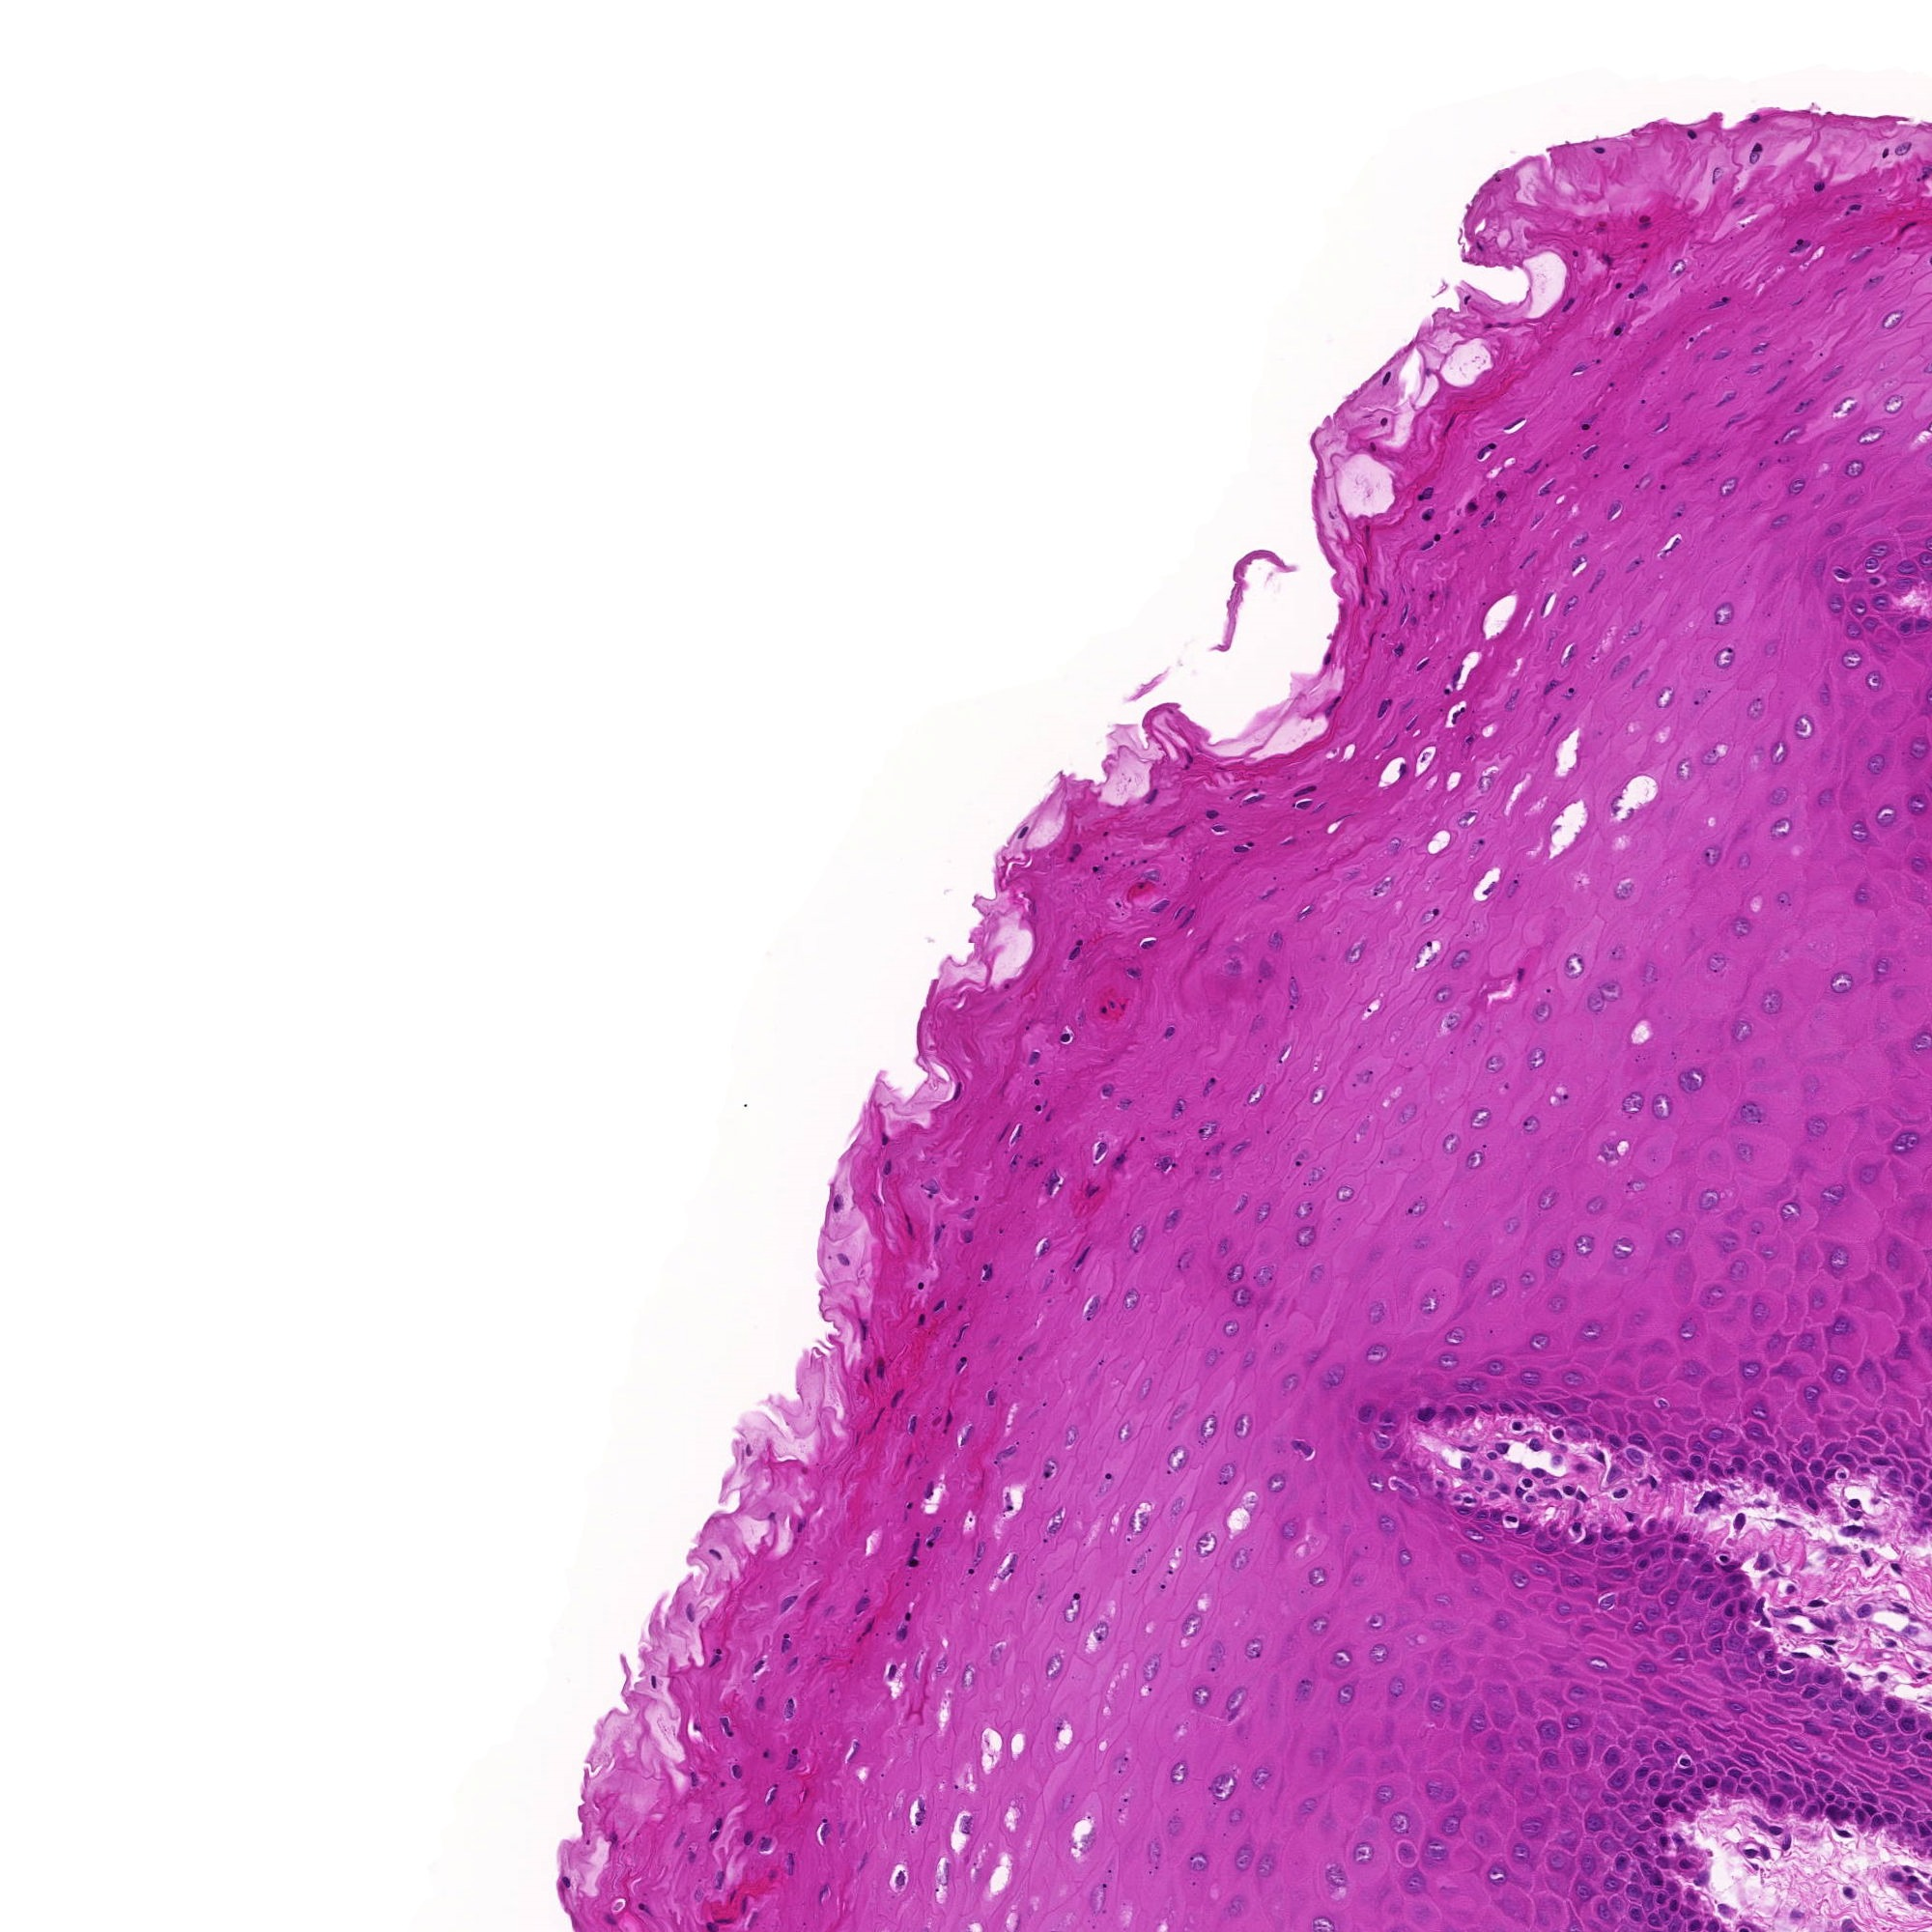epithelial: (1826, 556, 1858, 589), (1840, 1790, 1872, 1824), (1771, 1787, 1805, 1819), (1810, 1451, 1844, 1483), (1766, 1668, 1798, 1702), (1679, 1739, 1713, 1771), (1534, 1755, 1566, 1789), (1704, 1566, 1736, 1599), (1785, 1679, 1819, 1711), (897, 1408, 929, 1440), (916, 1173, 948, 1205), (860, 1184, 892, 1215), (941, 1290, 973, 1322), (791, 1776, 823, 1808), (1171, 901, 1203, 932), (1132, 929, 1164, 961), (1127, 867, 1159, 899), (1371, 1401, 1403, 1433), (1215, 1258, 1247, 1290), (1414, 1290, 1445, 1322), (1277, 978, 1309, 1010), (1362, 1297, 1394, 1329), (1297, 1341, 1329, 1373), (1415, 1389, 1447, 1421), (1359, 1465, 1391, 1497), (1394, 1835, 1426, 1867), (1380, 1675, 1412, 1707), (1226, 1840, 1258, 1872), (1417, 1833, 1449, 1865), (1299, 1560, 1330, 1592), (1175, 1608, 1207, 1640), (1251, 1849, 1283, 1881), (1208, 1465, 1240, 1497), (1221, 1888, 1253, 1920), (1215, 1691, 1247, 1723), (1723, 186, 1755, 218), (1776, 418, 1808, 449), (1845, 239, 1877, 271), (1845, 814, 1877, 846), (1840, 614, 1872, 646), (1727, 908, 1759, 939), (1842, 605, 1874, 637), (1537, 1392, 1569, 1424), (1821, 1361, 1852, 1392), (1821, 1178, 1852, 1210), (1893, 1283, 1925, 1315), (1882, 1131, 1914, 1162), (1856, 1419, 1888, 1451), (1610, 1403, 1642, 1435), (1658, 1223, 1690, 1254), (1674, 1398, 1706, 1430), (1592, 1136, 1624, 1168), (1619, 1408, 1651, 1440), (1541, 1286, 1573, 1318), (1548, 1401, 1580, 1433), (1518, 1044, 1550, 1076), (1585, 1401, 1617, 1433), (1790, 1421, 1822, 1453), (1532, 1184, 1564, 1215), (1828, 971, 1859, 1003), (1465, 1099, 1497, 1131), (1881, 1348, 1913, 1380), (1833, 1355, 1865, 1387), (1644, 1882, 1675, 1914), (1637, 1766, 1668, 1798), (1713, 1594, 1744, 1626), (1642, 1798, 1674, 1829), (1718, 1760, 1750, 1792), (1819, 1780, 1851, 1812), (1789, 1467, 1821, 1499), (1626, 1548, 1658, 1580), (1661, 1767, 1693, 1799), (1691, 1552, 1723, 1583), (1727, 1605, 1759, 1637), (1645, 1730, 1677, 1762), (1808, 1661, 1840, 1693), (1895, 1805, 1927, 1836), (1867, 1803, 1898, 1835), (1605, 1845, 1637, 1877), (1651, 1886, 1683, 1918), (1833, 1677, 1865, 1709), (1729, 1762, 1760, 1794), (1803, 1463, 1835, 1495), (1633, 1882, 1665, 1914), (1810, 1773, 1842, 1805), (1663, 1792, 1695, 1824), (1624, 1730, 1656, 1762), (1629, 1852, 1661, 1884), (1865, 1445, 1897, 1477), (1683, 1697, 1714, 1729), (1718, 1626, 1750, 1658), (1831, 1780, 1863, 1812), (1702, 1769, 1734, 1801), (1569, 1875, 1601, 1907), (1713, 1750, 1744, 1782), (1859, 1799, 1891, 1831), (1805, 1782, 1836, 1813), (1888, 1716, 1920, 1748), (1822, 1707, 1854, 1739), (1810, 1688, 1842, 1720), (1629, 1840, 1661, 1872), (1893, 1790, 1925, 1822), (1573, 1845, 1605, 1877), (1854, 1718, 1886, 1750), (1654, 1782, 1686, 1813), (1723, 1571, 1755, 1603), (1874, 1727, 1905, 1759), (1552, 1826, 1583, 1858), (1799, 1472, 1831, 1504), (1647, 1813, 1679, 1845), (1686, 1771, 1718, 1803), (1798, 1757, 1829, 1789), (1672, 1734, 1704, 1766), (1536, 1516, 1568, 1548), (1463, 1507, 1495, 1539), (1799, 1684, 1831, 1716), (1704, 1592, 1736, 1624), (1642, 1557, 1674, 1589), (1477, 1507, 1509, 1539), (1637, 1828, 1668, 1859), (1658, 1539, 1690, 1571), (1886, 1727, 1918, 1759), (1624, 1782, 1656, 1813), (1583, 1725, 1615, 1757), (1734, 1753, 1766, 1785), (1541, 1654, 1573, 1686), (1608, 1534, 1640, 1566), (1672, 1789, 1704, 1821), (1608, 1773, 1640, 1805), (1748, 1615, 1780, 1647), (1744, 1748, 1776, 1780), (1750, 1447, 1782, 1479), (1582, 1651, 1614, 1683), (1828, 1718, 1859, 1750), (1897, 1744, 1928, 1776), (1877, 1790, 1909, 1822), (1704, 1746, 1736, 1778), (1787, 1741, 1819, 1773), (1640, 1518, 1672, 1550), (1683, 1437, 1714, 1468), (1681, 1557, 1713, 1589), (1635, 1527, 1667, 1559), (1557, 1534, 1589, 1566), (1518, 1518, 1550, 1550), (1651, 1555, 1683, 1587), (1851, 1757, 1882, 1789), (1803, 1716, 1835, 1748), (1548, 1569, 1580, 1601), (1468, 1514, 1500, 1546), (1656, 1730, 1688, 1762), (1603, 1592, 1635, 1624), (1881, 1778, 1913, 1810), (1824, 1670, 1856, 1702), (1017, 1148, 1051, 1178), (1642, 1863, 1672, 1897), (1626, 1877, 1656, 1911), (1649, 1771, 1679, 1805), (1539, 1529, 1573, 1559), (1647, 1836, 1677, 1870), (1698, 1617, 1729, 1651), (1612, 1836, 1642, 1870), (924, 1290, 954, 1322), (941, 1076, 971, 1108), (872, 1152, 902, 1184), (922, 1217, 954, 1247), (810, 1813, 840, 1845), (775, 1844, 805, 1875), (807, 1875, 839, 1905), (679, 1762, 709, 1794), (697, 1902, 729, 1932), (1412, 464, 1442, 495), (1261, 924, 1293, 954), (1060, 835, 1090, 867), (1189, 929, 1219, 961), (1380, 832, 1412, 862), (1339, 936, 1371, 966), (1350, 1398, 1380, 1430), (1316, 1364, 1348, 1394), (1076, 1175, 1106, 1207), (1230, 1283, 1261, 1313), (1157, 1203, 1189, 1233), (1208, 1230, 1238, 1261), (1148, 1148, 1180, 1178), (1371, 1412, 1401, 1444), (1361, 1334, 1392, 1364), (1274, 1366, 1306, 1396), (1028, 1233, 1058, 1265), (1300, 1256, 1330, 1288), (1122, 1224, 1154, 1254), (1240, 1079, 1270, 1111), (1364, 1398, 1396, 1428), (1251, 1261, 1283, 1292), (985, 1074, 1016, 1106), (1214, 1313, 1246, 1343), (1001, 1132, 1031, 1164), (1288, 1672, 1320, 1702), (1421, 1684, 1451, 1716), (1399, 1865, 1430, 1897), (1330, 1677, 1362, 1707), (1272, 1516, 1304, 1546), (1415, 1775, 1447, 1805), (1375, 1440, 1405, 1472), (1292, 1790, 1322, 1822), (1162, 1757, 1192, 1789), (1405, 1458, 1435, 1490), (1187, 1527, 1219, 1557), (1246, 1760, 1277, 1790), (1240, 1637, 1272, 1667), (1037, 1651, 1069, 1681), (1392, 1451, 1422, 1483), (1125, 1506, 1155, 1537), (1387, 1468, 1419, 1499), (1518, 453, 1550, 483), (1552, 288, 1582, 320), (1789, 389, 1819, 421), (1675, 444, 1706, 476), (1465, 230, 1495, 262), (1647, 409, 1677, 441), (1746, 448, 1778, 478), (1663, 253, 1693, 285), (1877, 303, 1907, 334), (1891, 552, 1923, 582), (1890, 612, 1921, 642), (1863, 584, 1893, 616), (1821, 586, 1851, 617), (1844, 589, 1874, 621), (1845, 879, 1877, 909), (1872, 803, 1904, 833), (1865, 534, 1897, 564), (1861, 748, 1891, 780), (1856, 547, 1886, 579), (1762, 508, 1794, 538), (1810, 780, 1840, 812), (1442, 699, 1474, 729), (1900, 847, 1932, 878), (1886, 568, 1916, 600), (1861, 663, 1891, 695), (1810, 678, 1840, 709), (1760, 782, 1792, 812), (1693, 839, 1725, 869), (1454, 724, 1484, 755), (1898, 736, 1928, 768), (1767, 883, 1798, 915), (1783, 711, 1815, 741), (1835, 644, 1867, 674), (1553, 589, 1583, 621), (1849, 600, 1881, 630), (1874, 568, 1905, 598), (1840, 559, 1870, 591), (1852, 586, 1884, 616), (1867, 741, 1897, 773), (1897, 540, 1927, 571), (1741, 690, 1771, 722), (1454, 1371, 1486, 1401), (1796, 1380, 1828, 1410), (1734, 1353, 1764, 1385), (1454, 1394, 1484, 1426), (1888, 1332, 1918, 1364), (1477, 1352, 1509, 1382), (1737, 1415, 1769, 1445), (1828, 1307, 1858, 1339), (1851, 1352, 1881, 1384), (1736, 1095, 1766, 1127), (1875, 1410, 1907, 1440), (1622, 1422, 1654, 1453), (1599, 1421, 1629, 1453), (1674, 1063, 1704, 1095), (1583, 1419, 1615, 1449), (1801, 1109, 1833, 1139), (1790, 1327, 1822, 1357), (1672, 1311, 1702, 1343), (1525, 1322, 1555, 1353), (1578, 1315, 1608, 1346), (1852, 1157, 1882, 1189), (1587, 1380, 1617, 1412), (1801, 1284, 1833, 1315), (1819, 1315, 1849, 1346), (1743, 1293, 1773, 1325), (1819, 1247, 1849, 1279), (1760, 1325, 1792, 1355), (1776, 1357, 1808, 1387), (1877, 1357, 1907, 1389), (1757, 987, 1789, 1017), (1693, 1187, 1725, 1217), (1697, 1277, 1729, 1307), (1608, 1233, 1640, 1263), (1744, 1421, 1776, 1451), (1525, 994, 1557, 1024), (1812, 1414, 1842, 1445), (1456, 1143, 1488, 1173), (1821, 1352, 1852, 1382), (1608, 1339, 1638, 1371), (1654, 1421, 1684, 1453), (1750, 1399, 1780, 1431), (1603, 1410, 1633, 1442), (1571, 1419, 1603, 1449), (1454, 1254, 1486, 1284), (1511, 1263, 1541, 1295), (1444, 1371, 1476, 1401), (1580, 1189, 1612, 1219), (1713, 1421, 1744, 1451), (1881, 1230, 1913, 1260), (1752, 1237, 1782, 1269), (1564, 1412, 1594, 1444), (1882, 978, 1914, 1008), (1852, 1412, 1882, 1444), (1465, 1375, 1495, 1407), (1442, 1320, 1472, 1352), (1776, 1192, 1808, 1223), (1592, 971, 1624, 1001), (1739, 1214, 1771, 1244), (1612, 1419, 1642, 1451), (1845, 1097, 1875, 1129), (1562, 1401, 1594, 1431), (1598, 1403, 1629, 1433), (1706, 1582, 1736, 1614), (1893, 1707, 1925, 1737), (1672, 1752, 1702, 1783), (1897, 1759, 1928, 1789), (1847, 1693, 1877, 1725), (1831, 1796, 1863, 1826), (1819, 1794, 1851, 1824), (1798, 1794, 1829, 1824), (1679, 1778, 1711, 1808), (1792, 1773, 1824, 1803), (1663, 1895, 1695, 1925), (1626, 1757, 1656, 1789), (1782, 1451, 1813, 1481), (1619, 1875, 1651, 1905), (1605, 1764, 1637, 1794), (1794, 1677, 1826, 1707), (1757, 1442, 1787, 1474), (1847, 1714, 1877, 1746), (1642, 1537, 1674, 1568), (1736, 1744, 1767, 1775), (1596, 1741, 1626, 1773), (1867, 1704, 1897, 1736), (1874, 1799, 1905, 1829), (1594, 1522, 1624, 1553), (1647, 1826, 1679, 1856), (1808, 1762, 1838, 1794), (1573, 1523, 1603, 1555), (1755, 1658, 1787, 1688), (1831, 1444, 1861, 1476), (1713, 1767, 1744, 1798), (1877, 1691, 1909, 1721), (1619, 1520, 1651, 1550), (1822, 1688, 1852, 1720), (1753, 1638, 1785, 1668), (1700, 1629, 1730, 1661), (1783, 1753, 1815, 1783), (1647, 1900, 1679, 1930), (1881, 1711, 1913, 1741), (1810, 1790, 1842, 1821), (1744, 1626, 1775, 1658), (1698, 1752, 1729, 1783), (1798, 1665, 1829, 1695), (1752, 1649, 1783, 1679), (1560, 1566, 1591, 1598), (1672, 1898, 1704, 1928), (1863, 1729, 1893, 1760), (1852, 1780, 1882, 1812), (1661, 1849, 1691, 1881), (1851, 1702, 1881, 1734), (1711, 1548, 1741, 1580), (1447, 1495, 1479, 1525), (1555, 1706, 1587, 1736), (1594, 1870, 1626, 1900), (1665, 1640, 1697, 1670), (1580, 1808, 1610, 1840), (1635, 1874, 1667, 1904), (1688, 1566, 1720, 1596), (1704, 1610, 1734, 1642), (1507, 1511, 1537, 1543), (1769, 1649, 1801, 1679), (1698, 1453, 1729, 1484), (1566, 1736, 1598, 1766), (1780, 1782, 1810, 1813), (1741, 1453, 1773, 1483), (1737, 1635, 1769, 1665), (1640, 1691, 1670, 1723), (1624, 1614, 1656, 1644), (1658, 1621, 1688, 1652), (1631, 1651, 1661, 1683), (1727, 1583, 1757, 1615), (1667, 1522, 1697, 1553), (1481, 1856, 1511, 1888), (1472, 1500, 1504, 1530), (1798, 1713, 1828, 1744), (1679, 1447, 1711, 1477), (1750, 1766, 1780, 1798), (1670, 1764, 1702, 1794), (1656, 1874, 1688, 1904), (1637, 1598, 1667, 1629), (1902, 1465, 1932, 1497), (1626, 1741, 1656, 1773), (1635, 1541, 1665, 1573), (1608, 1557, 1638, 1589), (1562, 1674, 1592, 1706), (1759, 1743, 1790, 1773), (1789, 1661, 1819, 1693), (1479, 1729, 1509, 1760), (1718, 1773, 1748, 1805), (1589, 1895, 1621, 1925), (1877, 1461, 1907, 1493), (1782, 1773, 1813, 1803), (1592, 1585, 1624, 1615), (1803, 1748, 1835, 1778), (1504, 1562, 1534, 1594), (1637, 1806, 1668, 1836), (1787, 1790, 1819, 1821), (1819, 1665, 1851, 1695), (1667, 1566, 1697, 1598), (1683, 1569, 1713, 1601), (1453, 1486, 1484, 1516), (1720, 1580, 1750, 1612), (1713, 1559, 1743, 1591), (1836, 1690, 1868, 1720), (1727, 1658, 1759, 1688), (1897, 1445, 1927, 1477), (1881, 1721, 1913, 1752), (1527, 1527, 1557, 1559), (1741, 1759, 1773, 1789), (1821, 1442, 1852, 1472), (1867, 1789, 1898, 1819), (1637, 1789, 1668, 1819), (1667, 1743, 1698, 1773), (1679, 1759, 1711, 1789), (1867, 1720, 1897, 1752), (1548, 1592, 1578, 1624), (1757, 1704, 1789, 1734), (1730, 1773, 1760, 1805), (1606, 1872, 1637, 1904), (1695, 1718, 1725, 1750), (1759, 1764, 1789, 1796), (1633, 1750, 1663, 1782), (1656, 1677, 1688, 1707), (1773, 1686, 1805, 1716), (1601, 1518, 1633, 1548), (1838, 1711, 1870, 1741), (1442, 1801, 1472, 1833), (1467, 1822, 1497, 1854), (1456, 1499, 1486, 1530), (1858, 1709, 1888, 1741), (1888, 1465, 1920, 1495), (1725, 1614, 1755, 1645), (1603, 1856, 1633, 1888), (1884, 1451, 1914, 1483), (1451, 1546, 1483, 1576), (1762, 1451, 1794, 1481), (1619, 1440, 1651, 1470), (1440, 1697, 1472, 1727), (1642, 1748, 1672, 1780), (1780, 1658, 1810, 1690), (1617, 1821, 1647, 1852), (1536, 1769, 1566, 1801), (1608, 1583, 1640, 1614), (1598, 1771, 1629, 1801), (1605, 1812, 1635, 1844), (1881, 1808, 1911, 1840), (1509, 1842, 1539, 1874), (1614, 1780, 1644, 1812), (1720, 1743, 1750, 1775), (1456, 1516, 1488, 1546), (1891, 1752, 1921, 1783), (1767, 1470, 1798, 1502), (1762, 1642, 1792, 1674), (1897, 1771, 1927, 1803), (1499, 1759, 1530, 1789), (1764, 1750, 1796, 1780), (1647, 1529, 1677, 1560), (1888, 1698, 1920, 1729), (1805, 1444, 1835, 1476), (1817, 1752, 1847, 1783), (1550, 1798, 1580, 1829), (1509, 1727, 1539, 1759), (1665, 1546, 1695, 1578), (1644, 1721, 1674, 1753), (1509, 1683, 1539, 1714), (1642, 1546, 1672, 1578), (1612, 1759, 1644, 1789), (1626, 1799, 1656, 1831), (1601, 1789, 1633, 1819), (1589, 1736, 1621, 1766), (1780, 1672, 1812, 1702), (1672, 1537, 1704, 1568), (1845, 1445, 1877, 1476), (1550, 1545, 1580, 1576), (1617, 1555, 1647, 1587), (1729, 1734, 1760, 1764), (1852, 1805, 1882, 1836), (1601, 1829, 1633, 1859), (1789, 1730, 1819, 1762), (1490, 1859, 1520, 1891), (1711, 1608, 1741, 1640), (1773, 1456, 1805, 1486), (1626, 1771, 1656, 1803), (1514, 1778, 1546, 1808), (1621, 1762, 1651, 1794), (1568, 1769, 1598, 1801), (1633, 1555, 1665, 1585), (1713, 1621, 1744, 1651), (1821, 1698, 1852, 1729), (1812, 1672, 1844, 1702), (1649, 1874, 1677, 1907), (1798, 1698, 1826, 1732), (941, 1322, 971, 1352), (757, 1782, 787, 1812), (839, 1736, 869, 1766), (807, 1644, 837, 1674), (1175, 743, 1205, 773), (1145, 892, 1175, 922), (1238, 784, 1269, 814), (1017, 890, 1047, 920), (1352, 517, 1382, 547), (1276, 826, 1306, 856), (1392, 602, 1422, 632), (1136, 862, 1166, 892), (1396, 709, 1426, 740), (1077, 1292, 1108, 1322), (1003, 1118, 1033, 1148), (1000, 1145, 1030, 1175), (1168, 1247, 1198, 1277), (1224, 1410, 1254, 1440), (991, 1116, 1021, 1146), (1284, 1422, 1315, 1453), (1292, 1223, 1322, 1253), (1242, 1008, 1272, 1039), (1198, 1341, 1228, 1371), (1369, 1507, 1399, 1537), (1184, 1845, 1214, 1875), (1320, 1859, 1350, 1890), (1389, 1541, 1419, 1571), (1368, 1782, 1398, 1812), (1391, 1477, 1421, 1507), (1323, 1644, 1353, 1674), (1302, 1608, 1332, 1638), (1261, 1465, 1292, 1495), (1185, 1681, 1215, 1711), (1201, 1771, 1231, 1801), (1345, 1836, 1375, 1867), (1359, 1606, 1389, 1637), (1366, 1638, 1396, 1668), (964, 1536, 994, 1566), (1307, 1739, 1338, 1769), (1159, 1810, 1189, 1840), (1422, 1481, 1453, 1511), (1417, 1467, 1447, 1497), (1840, 453, 1870, 483), (1840, 193, 1870, 223), (1856, 609, 1886, 639), (1819, 513, 1849, 543), (1803, 552, 1833, 582), (1599, 494, 1629, 524), (1898, 791, 1928, 821), (1895, 563, 1925, 593), (1766, 736, 1796, 766), (1445, 941, 1476, 971), (1610, 876, 1640, 906), (1766, 812, 1796, 842), (1861, 575, 1891, 605), (1865, 635, 1895, 665), (1559, 1407, 1589, 1437), (1491, 1392, 1522, 1422), (1559, 1361, 1589, 1391), (1560, 1389, 1591, 1419), (1516, 1364, 1546, 1394), (1679, 1357, 1709, 1387), (1539, 1244, 1569, 1274), (1879, 1240, 1909, 1270), (1744, 1392, 1775, 1422), (1702, 1421, 1732, 1451), (1437, 1396, 1467, 1426), (1723, 1014, 1753, 1044), (1819, 1238, 1849, 1269), (1509, 1392, 1539, 1422), (1700, 1371, 1730, 1401), (1479, 1272, 1509, 1302), (1638, 1410, 1668, 1440), (1729, 1136, 1759, 1166), (1642, 1332, 1672, 1362), (1854, 1267, 1884, 1297), (1568, 1230, 1598, 1260), (1513, 1108, 1543, 1138), (1683, 1422, 1713, 1453), (1621, 1086, 1651, 1116), (1789, 1244, 1819, 1274), (1787, 1150, 1817, 1180), (1606, 1368, 1637, 1398), (1854, 1790, 1884, 1821), (1695, 1767, 1725, 1798), (1624, 1835, 1654, 1865), (1801, 1453, 1831, 1483), (1721, 1562, 1752, 1592), (1621, 1898, 1651, 1928), (1773, 1775, 1803, 1805), (1690, 1578, 1720, 1608), (1757, 1458, 1787, 1488), (1741, 1775, 1771, 1805), (1622, 1536, 1652, 1566), (1771, 1663, 1801, 1693), (1732, 1592, 1762, 1622), (1760, 1785, 1790, 1815), (1599, 1534, 1629, 1564), (1665, 1532, 1695, 1562), (1645, 1851, 1675, 1881), (1769, 1760, 1799, 1790), (1721, 1693, 1752, 1723), (1594, 1783, 1624, 1813), (1656, 1582, 1686, 1612), (1775, 1476, 1805, 1506), (1882, 1736, 1913, 1766), (1628, 1810, 1658, 1840), (1882, 1767, 1913, 1798), (1534, 1534, 1564, 1564), (1845, 1801, 1875, 1831), (1656, 1440, 1686, 1470), (1725, 1449, 1755, 1479), (1681, 1541, 1711, 1571), (1534, 1743, 1564, 1773), (1729, 1748, 1759, 1778), (1617, 1794, 1647, 1824), (1633, 1571, 1663, 1601), (1782, 1463, 1812, 1493), (1654, 1748, 1684, 1778), (1463, 1706, 1493, 1736), (1506, 1835, 1536, 1865), (1637, 1900, 1667, 1930), (1484, 1606, 1514, 1637), (1813, 1438, 1844, 1468), (1621, 1863, 1651, 1893), (1752, 1782, 1782, 1812), (1591, 1829, 1621, 1859), (1589, 1571, 1619, 1601), (1780, 1729, 1810, 1759), (1675, 1888, 1706, 1918), (1706, 1658, 1736, 1688), (1571, 1614, 1601, 1644), (1596, 1882, 1626, 1913), (1836, 1727, 1867, 1757), (1663, 1884, 1693, 1914), (1518, 1812, 1548, 1842), (1828, 1805, 1858, 1835), (1882, 1746, 1913, 1776), (1792, 1477, 1822, 1507), (1658, 1902, 1688, 1932), (1486, 1704, 1516, 1734), (1895, 1437, 1925, 1467), (1566, 1539, 1596, 1569), (1776, 1750, 1806, 1780), (1663, 1576, 1693, 1606), (1583, 1743, 1614, 1773), (1527, 1553, 1557, 1583), (1714, 1716, 1744, 1746), (1541, 1849, 1571, 1879), (1599, 1890, 1629, 1920), (1737, 1720, 1767, 1750), (1468, 1792, 1499, 1822), (1647, 1709, 1677, 1739), (1736, 1619, 1766, 1649), (1861, 1698, 1891, 1729), (1842, 1767, 1872, 1798), (1856, 1690, 1886, 1720), (1591, 1548, 1621, 1578), (1564, 1709, 1594, 1739), (1872, 1697, 1902, 1727), (1851, 1684, 1881, 1714), (1891, 1764, 1921, 1794), (1683, 1622, 1713, 1652), (1477, 1545, 1507, 1575), (1649, 1695, 1679, 1725), (1675, 1598, 1706, 1628), (915, 1474, 943, 1506), (1205, 1766, 1237, 1794), (1766, 1355, 1798, 1384), (1645, 1787, 1677, 1815), (1534, 1713, 1562, 1744), (1667, 1729, 1698, 1757), (1713, 1575, 1741, 1606), (1626, 1891, 1658, 1920), (1891, 1812, 1920, 1844), (1870, 1713, 1902, 1741), (1902, 1812, 1930, 1844), (1598, 1757, 1626, 1789), (1665, 1783, 1697, 1812), (1116, 1283, 1146, 1311), (1384, 1808, 1414, 1836), (1817, 359, 1847, 387), (1891, 1123, 1920, 1154), (1472, 1392, 1500, 1422), (1713, 1230, 1741, 1260), (1723, 1254, 1752, 1284), (1826, 1775, 1856, 1803), (1898, 1729, 1928, 1757), (1741, 1651, 1771, 1679), (1619, 1851, 1647, 1881), (1759, 1776, 1789, 1805), (1691, 1750, 1720, 1780), (1723, 1440, 1753, 1468), (1598, 1681, 1626, 1711), (1904, 1736, 1932, 1766), (1587, 212, 1615, 241)
fibroblast and endothelial: (1787, 1647, 1821, 1679), (893, 1210, 925, 1242), (828, 1244, 860, 1276), (849, 1361, 881, 1392), (915, 1527, 947, 1559), (750, 1826, 782, 1858), (885, 1863, 916, 1895), (699, 1537, 731, 1569), (770, 1626, 801, 1658), (784, 1509, 816, 1541), (720, 1755, 752, 1787), (676, 1840, 708, 1872), (1288, 775, 1320, 807), (1368, 690, 1399, 722), (1387, 754, 1419, 786), (1136, 780, 1168, 812), (1369, 584, 1401, 616), (1419, 895, 1451, 927), (1408, 529, 1440, 561), (1104, 1143, 1136, 1175), (1194, 1067, 1226, 1099), (1017, 1040, 1049, 1072), (1162, 1092, 1194, 1123), (1109, 1088, 1141, 1120), (1223, 1132, 1254, 1164), (1031, 1456, 1063, 1488), (1164, 1444, 1196, 1476), (991, 1438, 1023, 1470), (1707, 285, 1739, 317), (1601, 269, 1633, 301), (1629, 205, 1661, 237), (1744, 331, 1776, 363), (1859, 265, 1891, 297), (1477, 428, 1509, 460), (1559, 237, 1591, 269), (1534, 671, 1566, 702), (1539, 704, 1571, 736), (1555, 676, 1587, 708), (1555, 637, 1587, 669), (1518, 1421, 1550, 1453), (1488, 1421, 1520, 1453), (1504, 959, 1536, 991), (1497, 1401, 1529, 1433), (1548, 1081, 1580, 1113), (1799, 1587, 1831, 1619), (1836, 1514, 1868, 1546), (1566, 1479, 1598, 1511), (1840, 1490, 1872, 1522), (1812, 1629, 1844, 1661), (1748, 1605, 1780, 1637), (1523, 1456, 1555, 1488), (1897, 1881, 1928, 1913), (1506, 1472, 1537, 1504), (1598, 1456, 1629, 1488), (1847, 1594, 1879, 1626), (1769, 1829, 1801, 1861), (1714, 1456, 1746, 1488), (1484, 1499, 1516, 1530), (1762, 1598, 1794, 1629), (1810, 1486, 1842, 1518), (1484, 1474, 1516, 1506), (1716, 1470, 1748, 1502), (1829, 1601, 1861, 1633), (1557, 1484, 1589, 1516), (1566, 1518, 1598, 1550), (1614, 1511, 1645, 1543), (1610, 1488, 1642, 1520), (1529, 1472, 1560, 1504), (1780, 1898, 1812, 1930), (1757, 1829, 1789, 1861), (1546, 1516, 1578, 1548), (1870, 1548, 1902, 1580), (1442, 1481, 1474, 1513), (865, 1352, 895, 1384), (906, 1304, 936, 1336), (847, 1313, 879, 1343), (821, 1189, 853, 1219), (869, 1123, 901, 1154), (856, 1357, 888, 1387), (932, 1403, 964, 1433), (943, 1346, 973, 1378), (862, 1401, 893, 1431), (858, 1408, 888, 1440), (899, 1546, 929, 1578), (901, 1530, 931, 1562), (732, 1822, 763, 1854), (878, 1654, 908, 1686), (713, 1714, 743, 1746), (701, 1642, 731, 1674), (782, 1587, 814, 1617), (750, 1739, 782, 1769), (628, 1891, 658, 1923), (906, 1798, 936, 1829), (771, 1587, 803, 1617), (778, 1739, 809, 1771), (745, 1686, 775, 1718), (639, 1665, 669, 1697), (709, 1706, 740, 1737), (893, 1490, 925, 1520), (704, 1863, 736, 1893), (778, 1647, 809, 1679), (729, 1888, 759, 1920), (674, 1598, 706, 1628), (920, 1518, 952, 1548), (681, 1711, 713, 1741), (720, 1882, 752, 1913), (594, 1902, 626, 1932), (757, 1859, 787, 1891), (1368, 405, 1399, 435), (1357, 432, 1387, 464), (1412, 499, 1442, 531), (1288, 789, 1320, 819), (1384, 633, 1414, 665), (1311, 644, 1343, 674), (1007, 816, 1039, 846), (1348, 584, 1378, 616), (1318, 688, 1350, 718), (1350, 559, 1382, 589), (1224, 833, 1256, 863), (1415, 580, 1447, 610), (1292, 895, 1322, 927), (1297, 773, 1329, 803), (1065, 1244, 1097, 1274), (1049, 1021, 1079, 1053), (1086, 1132, 1116, 1164), (1088, 994, 1120, 1024), (1092, 1074, 1122, 1106), (975, 1382, 1007, 1412), (1021, 1065, 1053, 1095), (1023, 1092, 1054, 1122), (1099, 991, 1131, 1021), (1207, 1132, 1238, 1162), (1283, 1146, 1315, 1177), (1095, 1139, 1127, 1169), (1069, 1237, 1100, 1267), (1062, 1580, 1092, 1612), (1093, 1461, 1123, 1493), (996, 1550, 1026, 1582), (993, 1491, 1024, 1522), (1085, 1621, 1115, 1652), (1039, 1511, 1069, 1543), (1739, 103, 1769, 134), (1601, 315, 1633, 345), (1803, 172, 1835, 202), (1583, 134, 1615, 165), (1783, 228, 1815, 258), (1569, 410, 1601, 441), (1622, 276, 1654, 306), (1628, 228, 1658, 260), (1882, 134, 1914, 165), (1870, 138, 1902, 168), (1610, 274, 1640, 306), (1575, 437, 1606, 467), (1564, 352, 1594, 384), (1476, 310, 1506, 341), (1612, 448, 1642, 479), (1713, 382, 1743, 414), (1472, 504, 1504, 534), (1486, 479, 1516, 511), (1442, 513, 1472, 545), (1898, 610, 1930, 640), (1474, 874, 1504, 906), (1663, 497, 1693, 529), (1658, 529, 1690, 559), (1560, 548, 1592, 579), (1465, 826, 1495, 858), (1621, 548, 1651, 580), (1564, 538, 1594, 570), (1714, 635, 1744, 667), (1566, 524, 1596, 556), (1453, 800, 1484, 830), (1509, 1415, 1541, 1445), (1893, 1865, 1925, 1895), (1851, 1541, 1881, 1573), (1734, 1836, 1766, 1867), (1688, 1484, 1718, 1516), (1545, 1479, 1576, 1509), (1759, 1815, 1790, 1845), (1750, 1836, 1780, 1868), (1637, 1467, 1668, 1497), (1783, 1638, 1815, 1668), (1778, 1612, 1810, 1642), (1798, 1488, 1828, 1520), (1886, 1592, 1916, 1624), (1605, 1477, 1637, 1507), (1822, 1534, 1852, 1566), (1831, 1877, 1863, 1907), (1881, 1552, 1913, 1582), (1723, 1506, 1755, 1536), (1743, 1805, 1773, 1836), (1449, 1449, 1481, 1479), (1509, 1458, 1541, 1488), (1672, 1849, 1702, 1881), (1746, 1546, 1778, 1576), (1495, 1504, 1527, 1534), (1746, 1488, 1778, 1518), (1677, 1875, 1709, 1905), (1603, 1465, 1633, 1497), (1851, 1529, 1881, 1560), (1819, 1605, 1849, 1637), (1891, 1854, 1923, 1884), (1847, 1513, 1877, 1545), (1486, 1488, 1518, 1518), (1532, 1461, 1562, 1493), (1824, 1463, 1856, 1493), (1748, 1812, 1780, 1842), (1787, 1601, 1817, 1633), (1560, 1495, 1591, 1527), (1782, 1624, 1812, 1656), (1895, 1614, 1927, 1644), (1835, 1523, 1865, 1555), (1746, 1461, 1778, 1491), (1624, 1504, 1656, 1534), (1668, 1831, 1698, 1863), (1511, 1495, 1541, 1527), (881, 1382, 911, 1412), (870, 1143, 901, 1173), (925, 1407, 955, 1437), (702, 1810, 732, 1840), (888, 1617, 918, 1647), (699, 1821, 729, 1851), (855, 1612, 885, 1642), (550, 1867, 580, 1897), (893, 1601, 924, 1631), (743, 1649, 773, 1679), (775, 1690, 805, 1720), (598, 1824, 628, 1854), (847, 1587, 878, 1617), (755, 1500, 786, 1530), (708, 1900, 738, 1930), (893, 1444, 924, 1474), (796, 1585, 826, 1615), (764, 1688, 794, 1718), (1371, 363, 1401, 393), (1412, 356, 1442, 386), (1415, 525, 1445, 556), (1408, 481, 1438, 511), (1060, 936, 1090, 966), (1196, 798, 1226, 828), (1407, 649, 1437, 679), (1081, 855, 1111, 885), (1205, 812, 1235, 842), (1161, 816, 1191, 846), (1357, 623, 1387, 653), (1253, 879, 1283, 909), (1300, 787, 1330, 817), (1410, 1399, 1440, 1430), (973, 1256, 1003, 1286), (1154, 1017, 1184, 1047), (1037, 1166, 1067, 1196), (1189, 1116, 1219, 1146), (1023, 1077, 1053, 1108), (1398, 1194, 1428, 1224), (1044, 1713, 1074, 1743), (1741, 133, 1771, 163), (1677, 119, 1707, 149), (1470, 433, 1500, 464), (1893, 211, 1923, 241), (1592, 244, 1622, 274), (1497, 410, 1527, 441), (1451, 283, 1481, 313), (1481, 163, 1511, 193), (1488, 310, 1518, 340), (1760, 372, 1790, 402), (1456, 490, 1486, 520), (1442, 660, 1472, 690), (1463, 497, 1493, 527), (1829, 1819, 1859, 1849), (1700, 1484, 1730, 1514), (1778, 1596, 1808, 1626), (1879, 1861, 1909, 1891), (1672, 1460, 1702, 1490), (1743, 1592, 1773, 1622), (1769, 1507, 1799, 1537), (1536, 1477, 1566, 1507), (1856, 1516, 1886, 1546), (1502, 1453, 1532, 1483), (1842, 1500, 1872, 1530), (1849, 1454, 1879, 1484), (1663, 1824, 1693, 1854), (1592, 1514, 1622, 1545), (1566, 1460, 1596, 1490), (1707, 1893, 1737, 1923), (1759, 1559, 1789, 1589), (1637, 1509, 1667, 1539), (1838, 1661, 1868, 1691), (1799, 1603, 1829, 1633), (1698, 1900, 1729, 1930), (1785, 1488, 1815, 1518), (1895, 1477, 1925, 1507), (1743, 1833, 1773, 1863), (1626, 1514, 1656, 1545), (1752, 1553, 1782, 1583), (1647, 1465, 1677, 1495), (1665, 1449, 1695, 1479), (1900, 1872, 1930, 1902), (1808, 1608, 1836, 1640), (1819, 1458, 1847, 1490), (1684, 1865, 1716, 1893), (1514, 1484, 1546, 1513), (1904, 1483, 1932, 1514), (1835, 1453, 1863, 1484), (1555, 1474, 1583, 1504), (1472, 1472, 1502, 1500), (1451, 1476, 1479, 1506), (1488, 1437, 1520, 1463)
lymphocyte: (904, 1269, 936, 1300), (1560, 1511, 1592, 1543), (1477, 1479, 1509, 1511), (1568, 1449, 1599, 1481), (1614, 1499, 1644, 1532), (1502, 1410, 1532, 1442), (1583, 1440, 1615, 1470), (1514, 1465, 1545, 1497), (1495, 1472, 1525, 1504), (1472, 1458, 1502, 1490), (1775, 1573, 1805, 1605), (1479, 1438, 1511, 1468), (1658, 1605, 1690, 1635), (1414, 929, 1444, 959), (1859, 564, 1890, 594), (1543, 1417, 1573, 1447), (1867, 1661, 1897, 1691), (1875, 1628, 1905, 1658), (1504, 1483, 1534, 1513)
